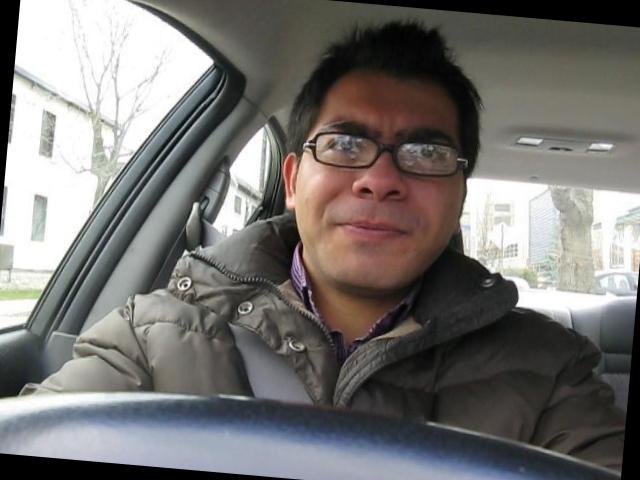eye_open: (320, 131, 370, 162), (405, 140, 451, 170)
face: (280, 90, 475, 300)
